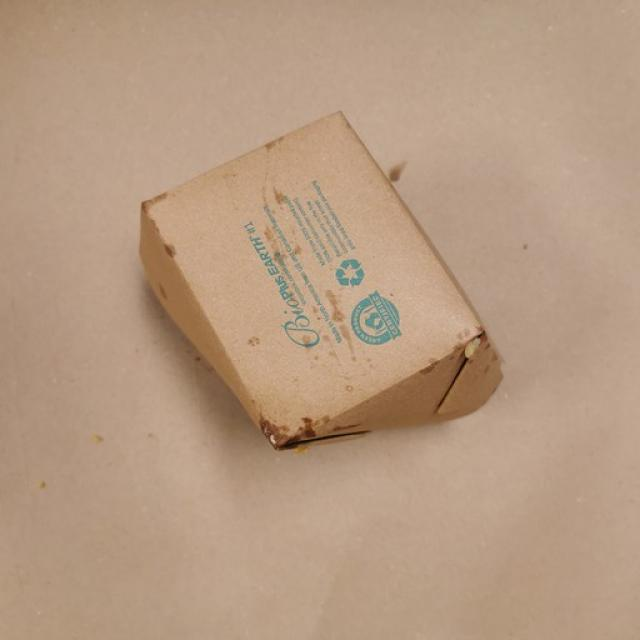PaperCardboard: (136, 106, 512, 452)
